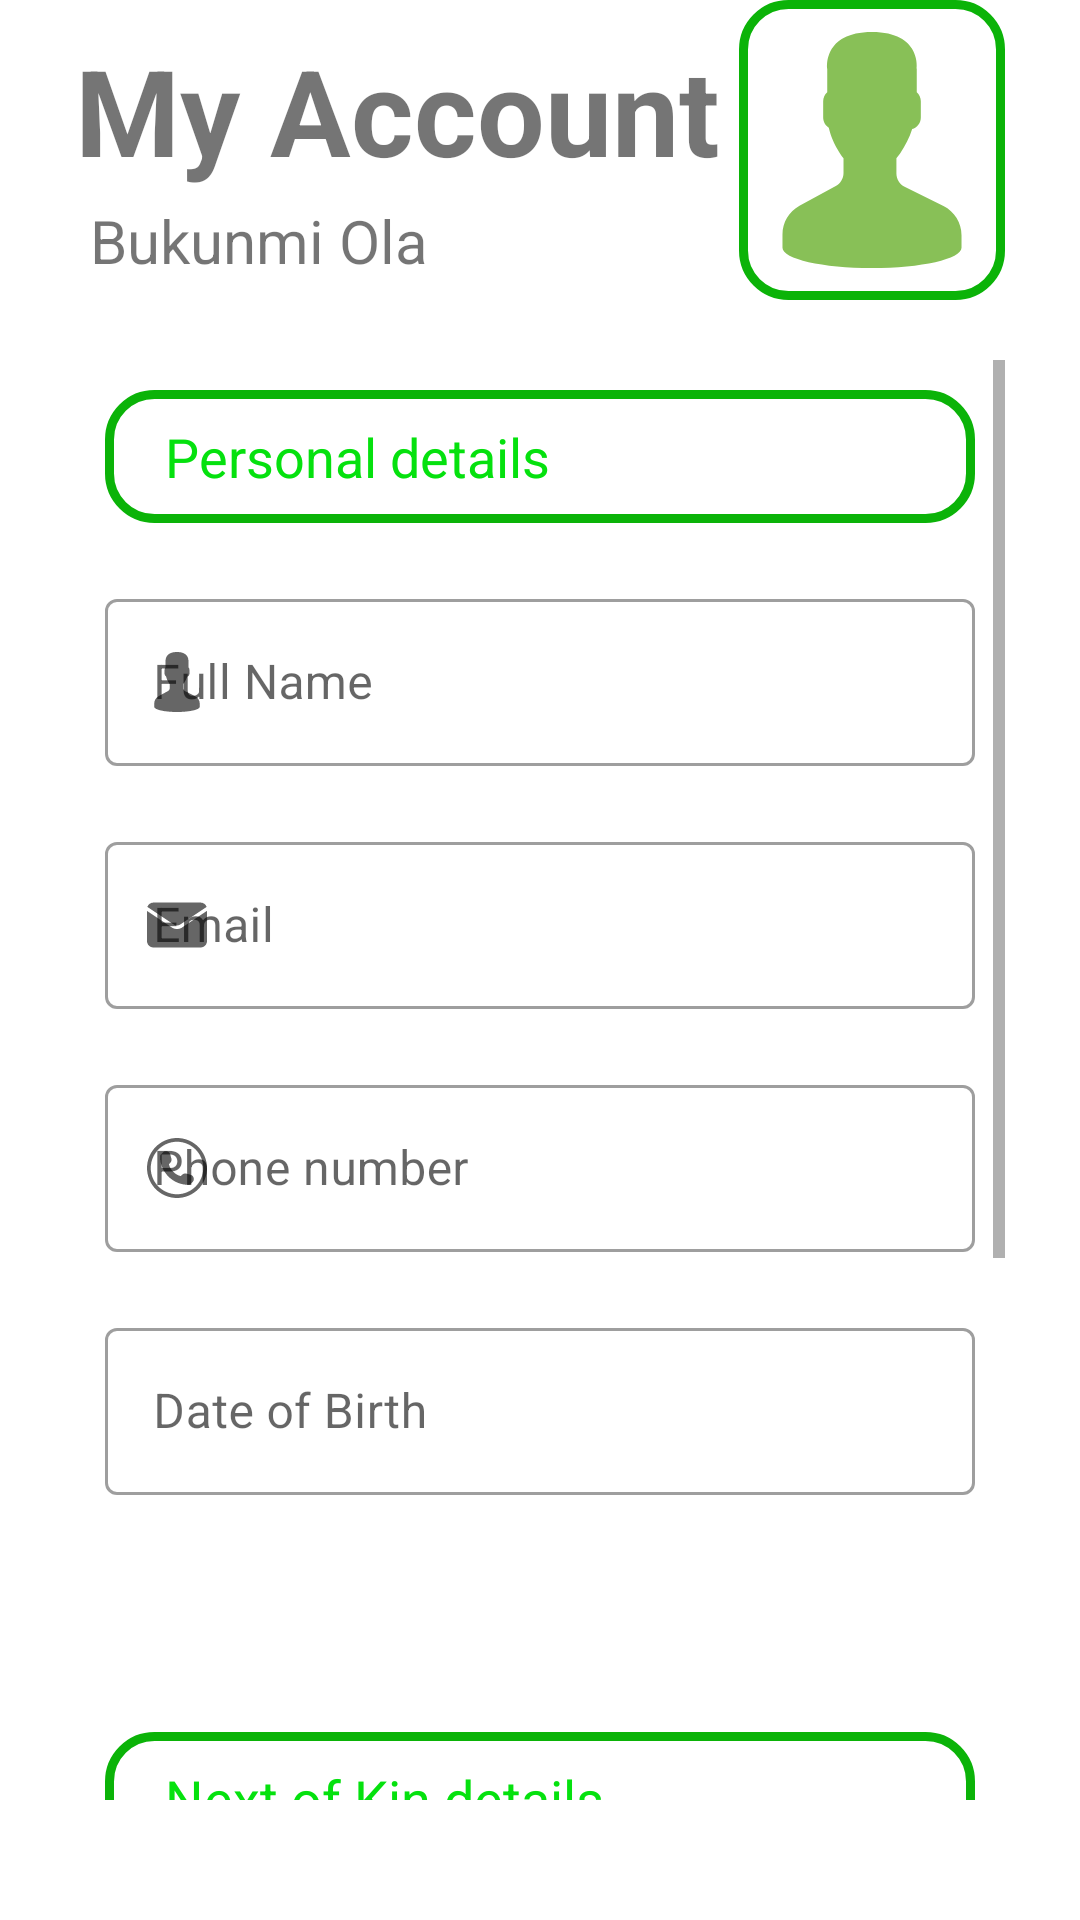

Point at icon controls on the screen. Image size 1080 × 1920, points as point (x, y).
user: point (872, 150)
